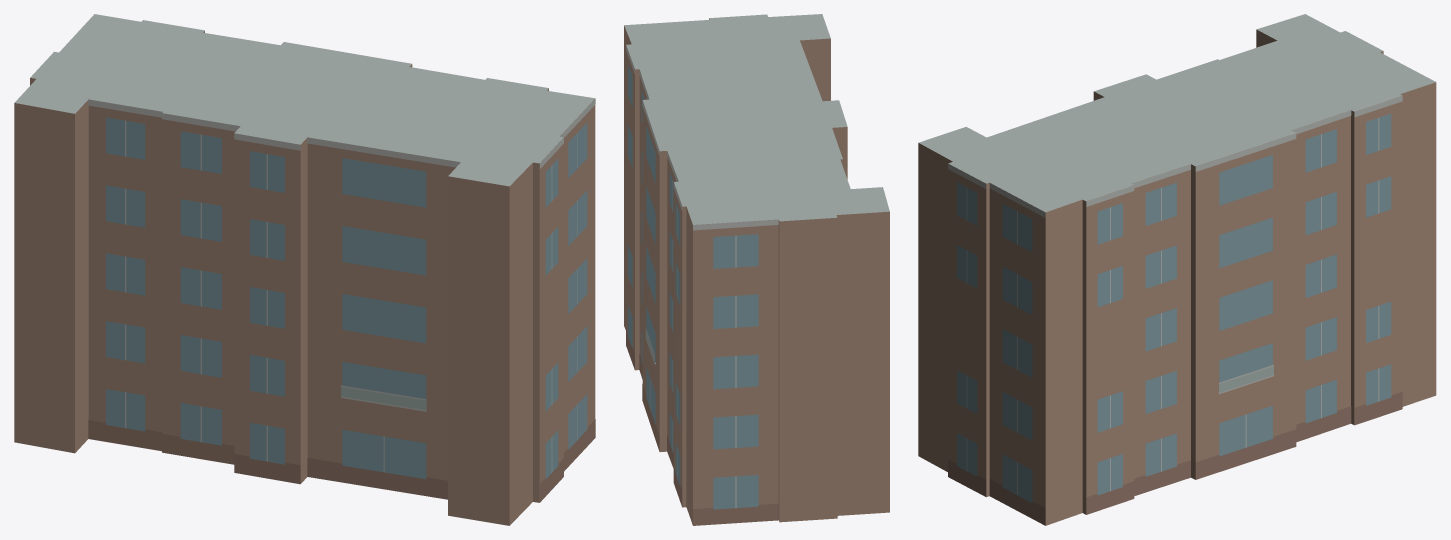
File: survey-upis-32739238.glb
3 views of the same model, side by side, from view 1: azimuth 30°, elevation 25°; view 2: azimuth 150°, elevation 25°; view 3: azimuth 270°, elevation 25° (orthographic). The views are drawn at different scales.
Parts seen in each view (by area): view 1: survey-upis-32739238.tmp; view 2: survey-upis-32739238.tmp; view 3: survey-upis-32739238.tmp.
Boxes of the visible parts, left/top/right/bottom form: survey-upis-32739238.tmp: left=14, top=14, right=595, bottom=525; survey-upis-32739238.tmp: left=624, top=14, right=889, bottom=525; survey-upis-32739238.tmp: left=918, top=14, right=1436, bottom=525.
Size of the model in its own units: 18.47 by 13.6 by 20.37.
